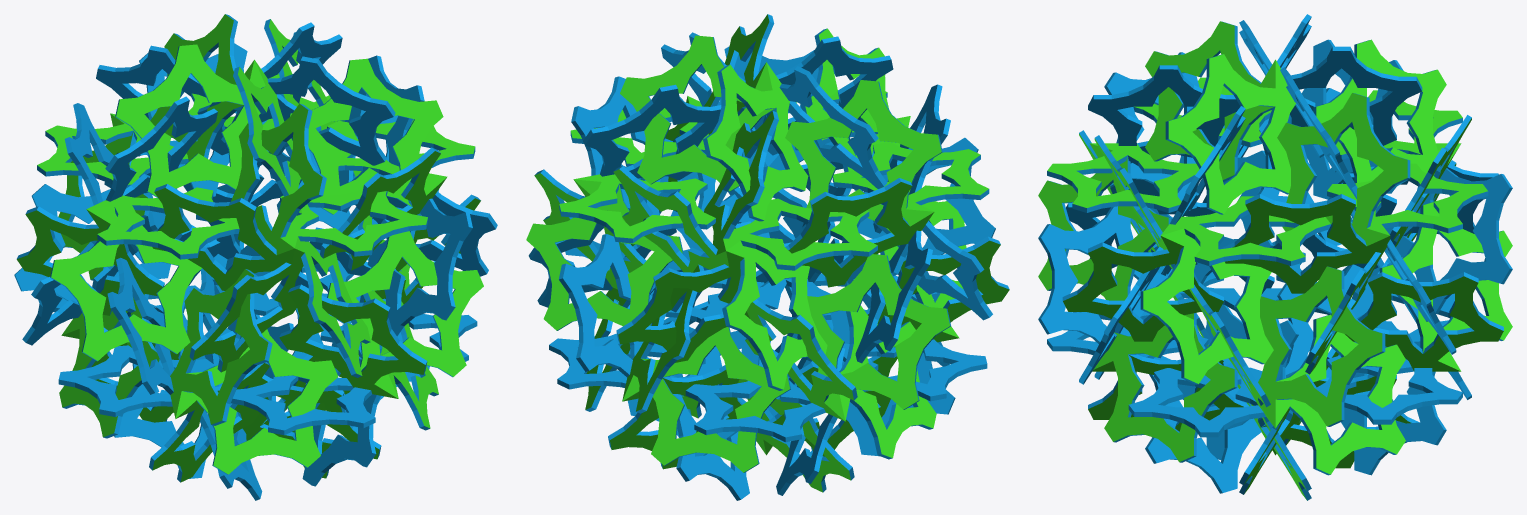
The model's file is StarDodecahedronPolyknot23.glb.
3 renders of one model, left to right at view 1: azimuth 30°, elevation 25°; view 2: azimuth 150°, elevation 25°; view 3: azimuth 270°, elevation 25°, orthographic.
Visible parts, largest first — view 1: ESCHER_3D_3Augmented_Penta_Prism; view 2: ESCHER_3D_3Augmented_Penta_Prism; view 3: ESCHER_3D_3Augmented_Penta_Prism.
Boxes of the visible parts, box(x1,y1,x2,y2) form: ESCHER_3D_3Augmented_Penta_Prism: box(14, 14, 497, 500); ESCHER_3D_3Augmented_Penta_Prism: box(526, 14, 1009, 500); ESCHER_3D_3Augmented_Penta_Prism: box(1038, 14, 1512, 500).
Bounding box in the file's own units: 155 × 150 × 150.
